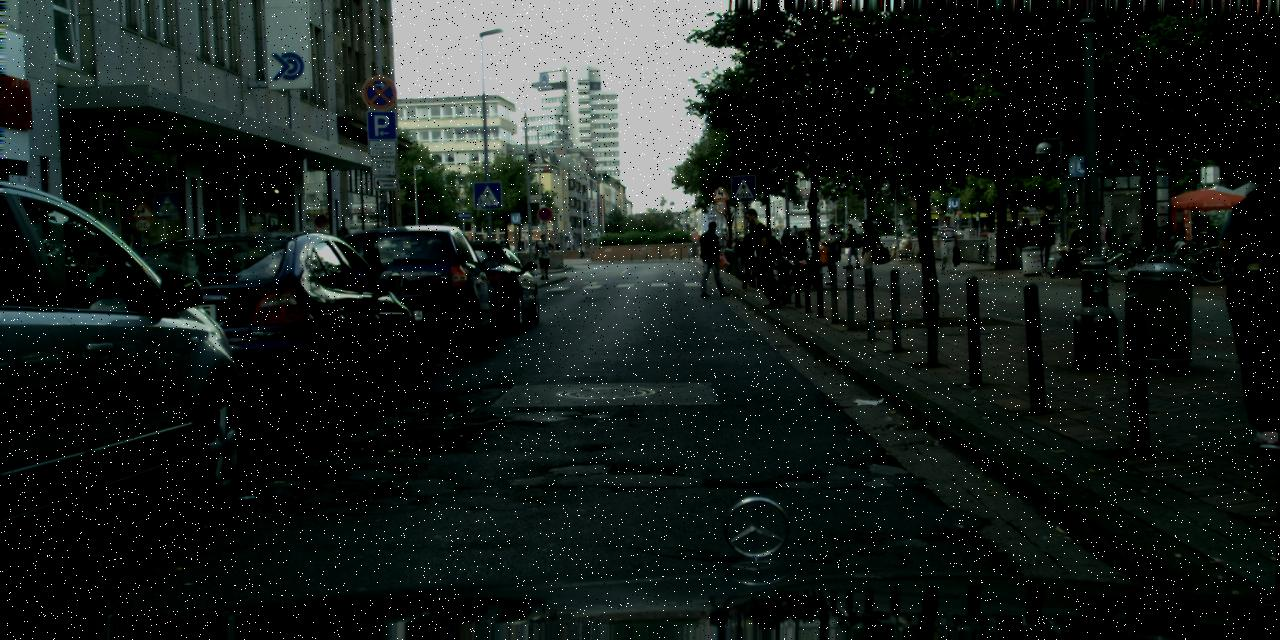ped: (1216, 147, 1279, 447), (746, 208, 785, 302), (698, 220, 728, 296), (737, 220, 765, 288), (854, 218, 881, 286), (819, 223, 844, 285), (334, 226, 358, 285), (934, 216, 957, 271), (1034, 215, 1054, 267), (1017, 217, 1037, 267), (1092, 216, 1112, 265), (841, 223, 860, 268), (534, 233, 552, 279), (782, 230, 807, 260), (1001, 220, 1018, 264), (893, 233, 913, 261), (829, 226, 843, 260), (498, 236, 510, 268), (724, 238, 735, 267), (790, 224, 799, 248), (781, 229, 790, 252), (730, 238, 744, 252), (719, 236, 727, 256), (578, 243, 584, 258)
